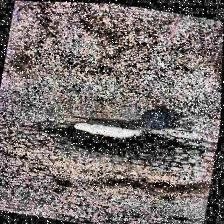pothole: (53, 109, 176, 171)
